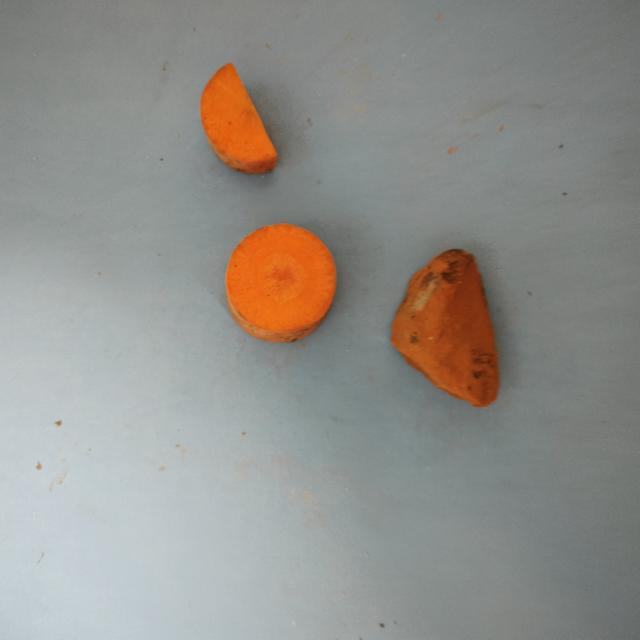-Kitchen waste - carrot-: (223, 220, 335, 344), (202, 65, 278, 173)
-Other waste - brick-: (388, 243, 500, 411)
